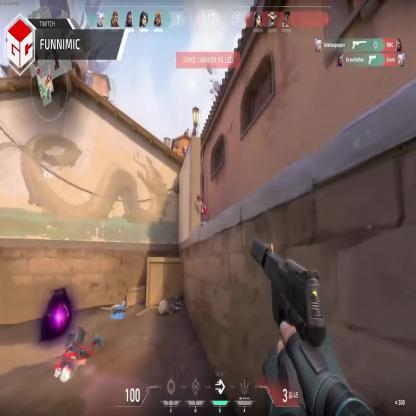enemy: (199, 197, 206, 227)
enemy_head: (200, 198, 204, 206)
